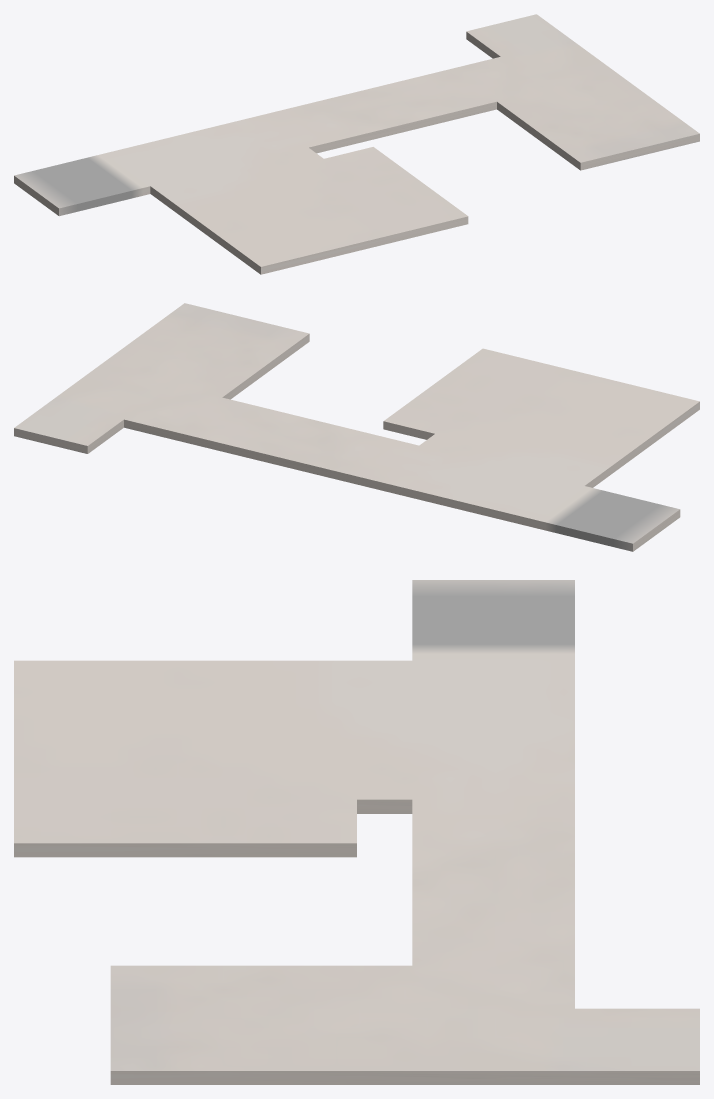
File: Techo.fbx
The picture shows the model from 3 angles, top to bottom: view 1: azimuth 30°, elevation 25°; view 2: azimuth 150°, elevation 25°; view 3: azimuth 270°, elevation 25°; orthographic projection. The views are drawn at different scales.
Parts seen in each view (by area): view 1: Cube.018; view 2: Cube.018; view 3: Cube.018.
Boxes of the visible parts, bbox=[...] form: Cube.018: bbox=[14, 14, 699, 274]; Cube.018: bbox=[14, 303, 699, 551]; Cube.018: bbox=[14, 580, 699, 1084].
Bounding box in the file's own units: 2720 × 36.34 × 1606.
